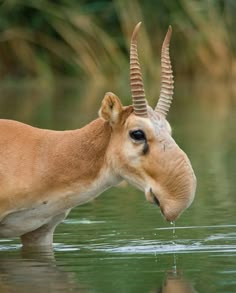saiga: (3, 25, 201, 275)
